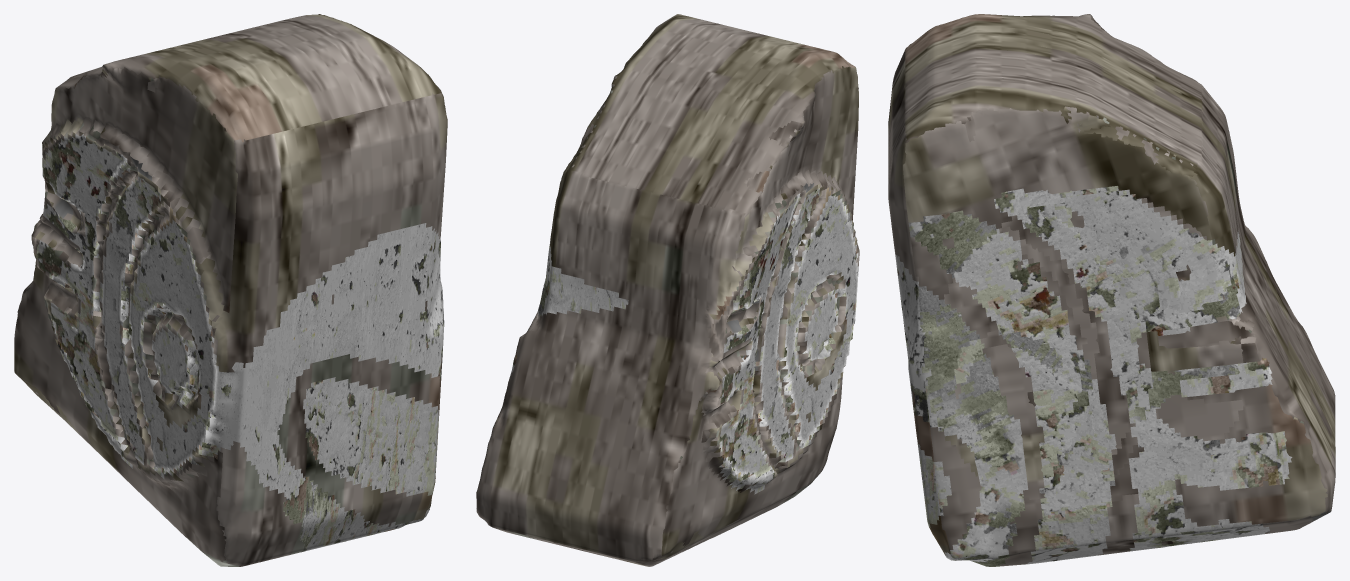
The model's file is Roca_6.glb.
The picture shows the model from 3 angles, left to right: view 1: azimuth 30°, elevation 25°; view 2: azimuth 150°, elevation 25°; view 3: azimuth 270°, elevation 25°; orthographic projection. The views are drawn at different scales.
Visible parts, largest first — view 1: Cube.003; view 2: Cube.003; view 3: Cube.003.
Boxes of the visible parts, x1,y1,x2,y2 form: Cube.003: (14,14,447,566); Cube.003: (476,14,859,566); Cube.003: (888,14,1335,566).
Size of the model in its own units: 0.4921 by 0.9229 by 0.7946.
2 materials, 2 textured.
